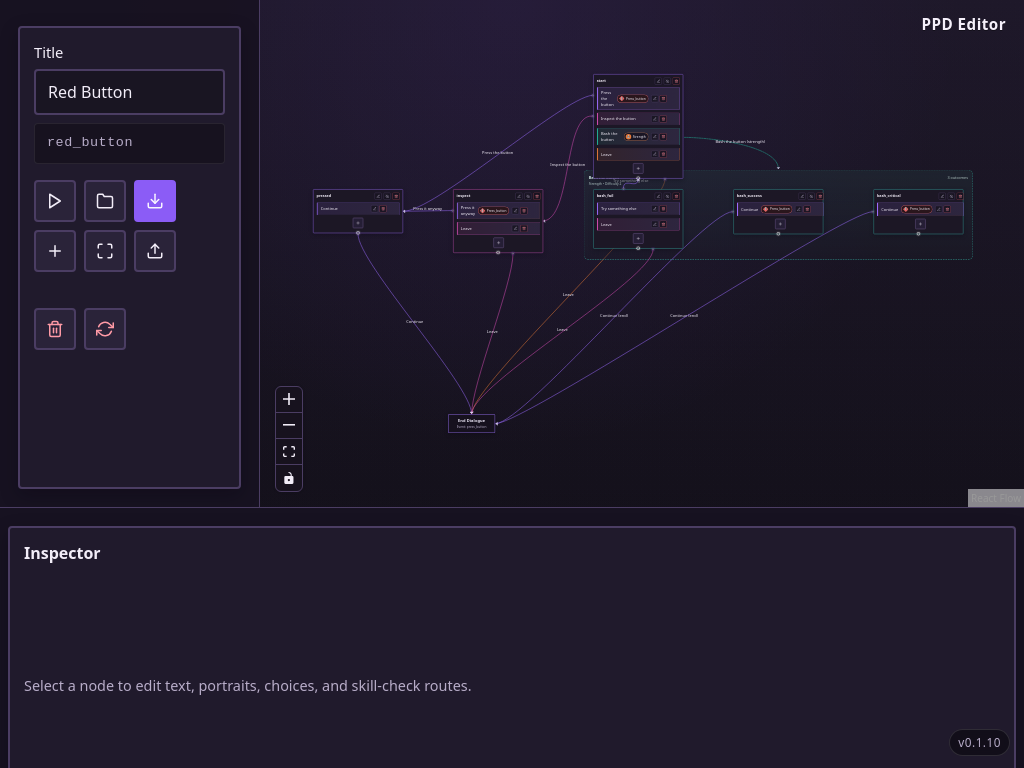
Test: App › adds a new node from the project panel
This screenshot has width=1024, height=768.
What coordinates should you click on to do the following:
click the button named "Add node"
I would click on:
 (55, 251)
Its box is [34,230,76,272].
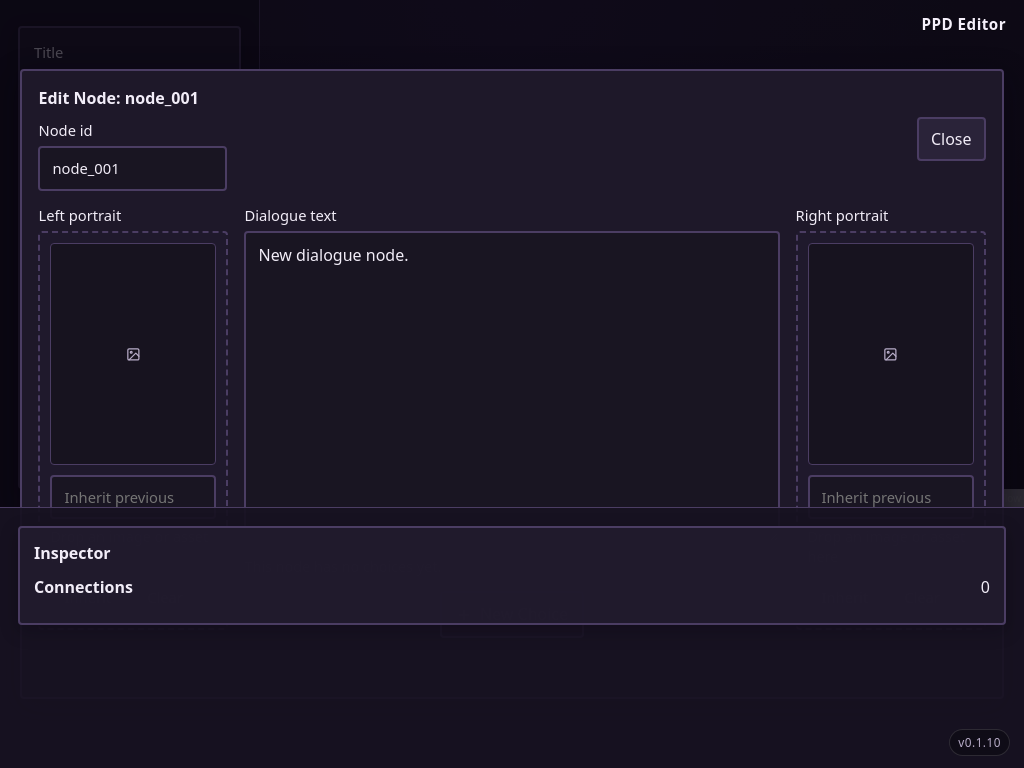
expect the field showing "node_001" is shown: met, box [38,146,227,191]
